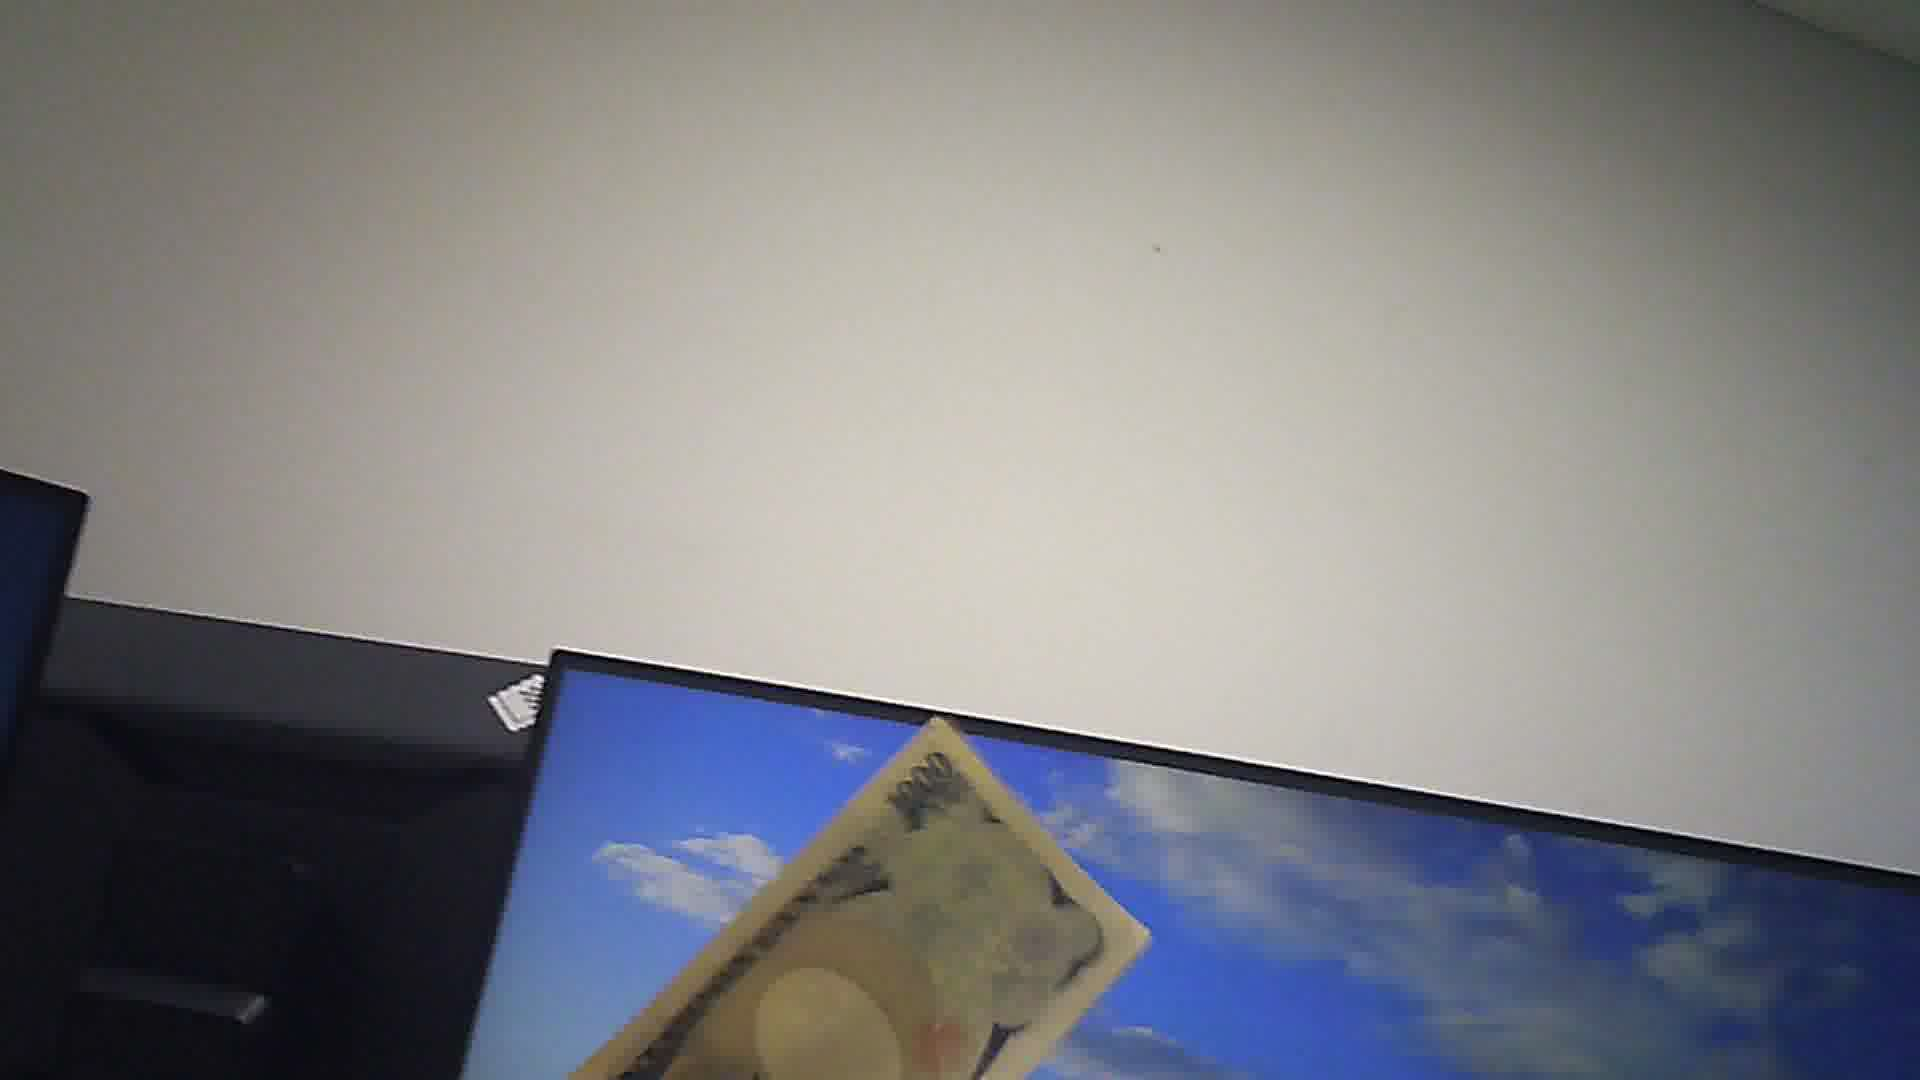1,000 Yen: (579, 715, 1141, 1079)
